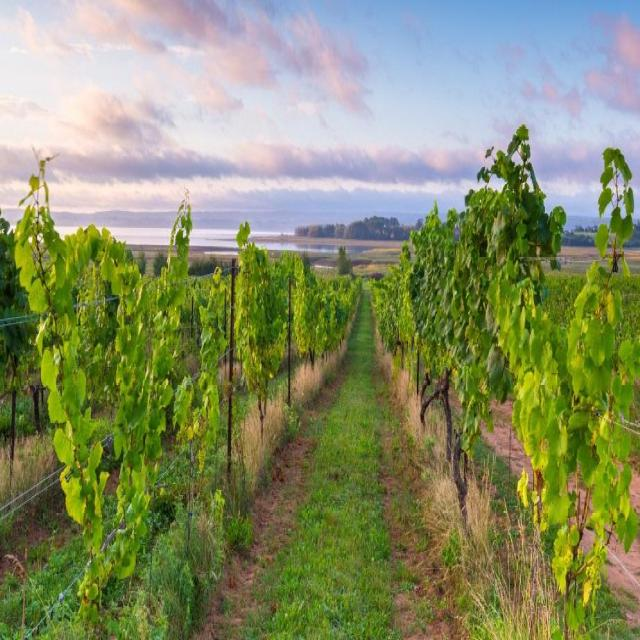row: (181, 288, 499, 640)
